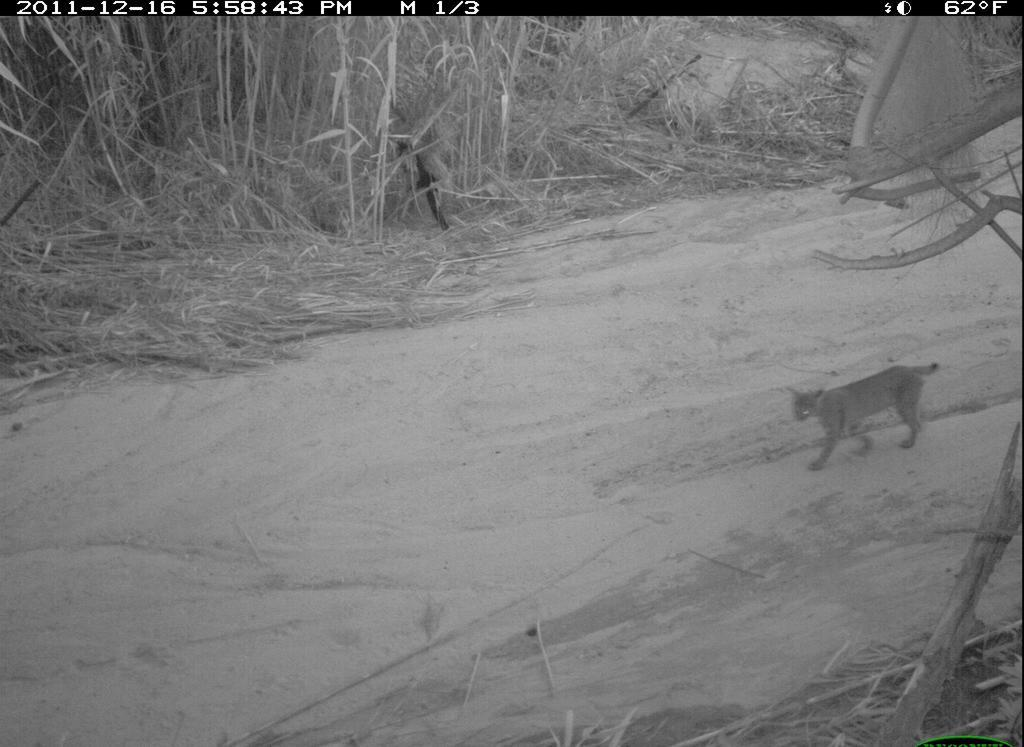bobcat: (779, 344, 953, 472)
